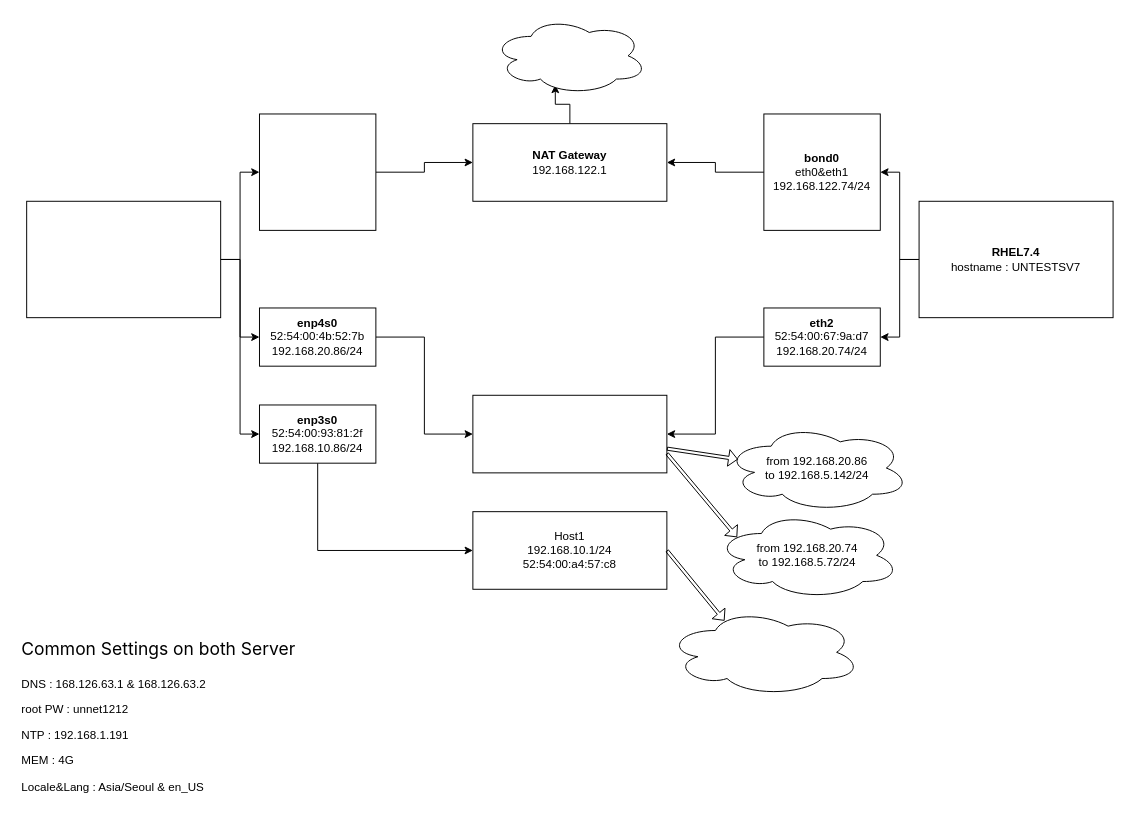
Some shapes in this 1130 by 820 pixel diagram are drawn without their labels. Each missing label, with the box of its shape:
External: (491, 16, 647, 95)
from 192.168.10.86 to 10.0.72.22/24: (666, 608, 861, 696)
Host2 192.168.20.1/24 52:54:00:a4:57:c8: (472, 394, 667, 473)
REHL8.6 hostname : UNTESTSV8: (26, 200, 221, 318)
team0 enp1s0 & enp2s0 192.168.122.86/24: (259, 113, 376, 230)
